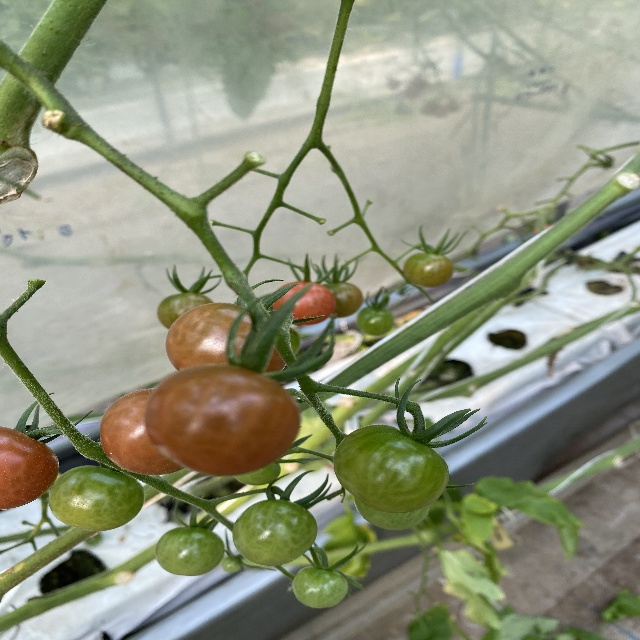l_fully_ripened: (0, 427, 58, 510)
l_green: (333, 425, 449, 512), (47, 464, 148, 533), (232, 499, 317, 566), (155, 526, 224, 576), (353, 498, 429, 530), (292, 566, 349, 608), (236, 458, 282, 486)
l_half_ripened: (145, 363, 299, 477), (165, 302, 285, 372), (101, 388, 183, 475), (273, 283, 334, 324)
